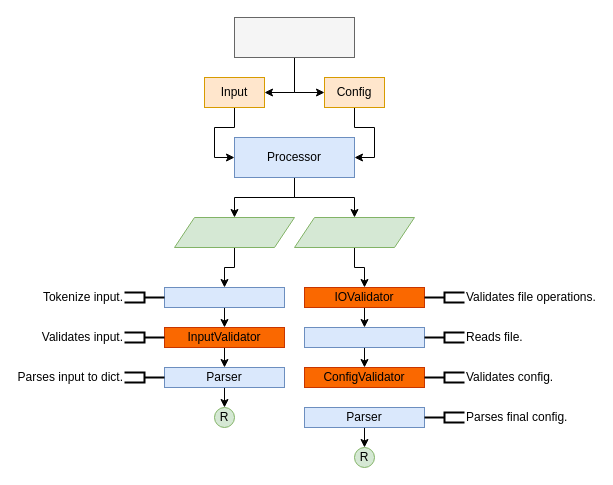
The diagram is 613 pixels wide and 485 high, and some of its shapes have lost their labels. Here are the shapes that lost their labels. From the top down, the centre of each, then its label:
At [294,37]: "`mplib` Architecture".
At [234,232]: "Raw user input".
At [354,232]: "Raw config".
At [224,297]: "Tokenizer".
At [364,337]: "IOReader".
